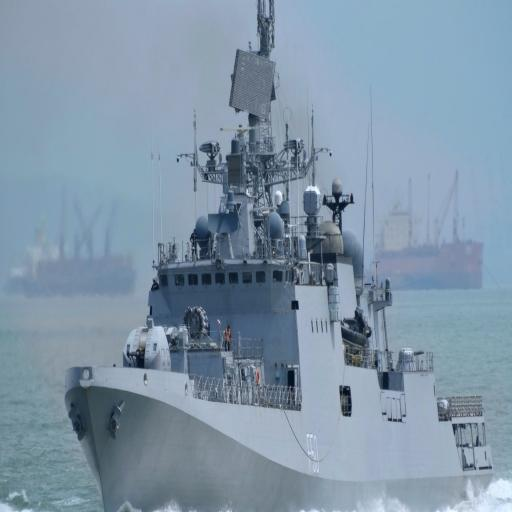Fragata: (1, 17, 347, 511)
